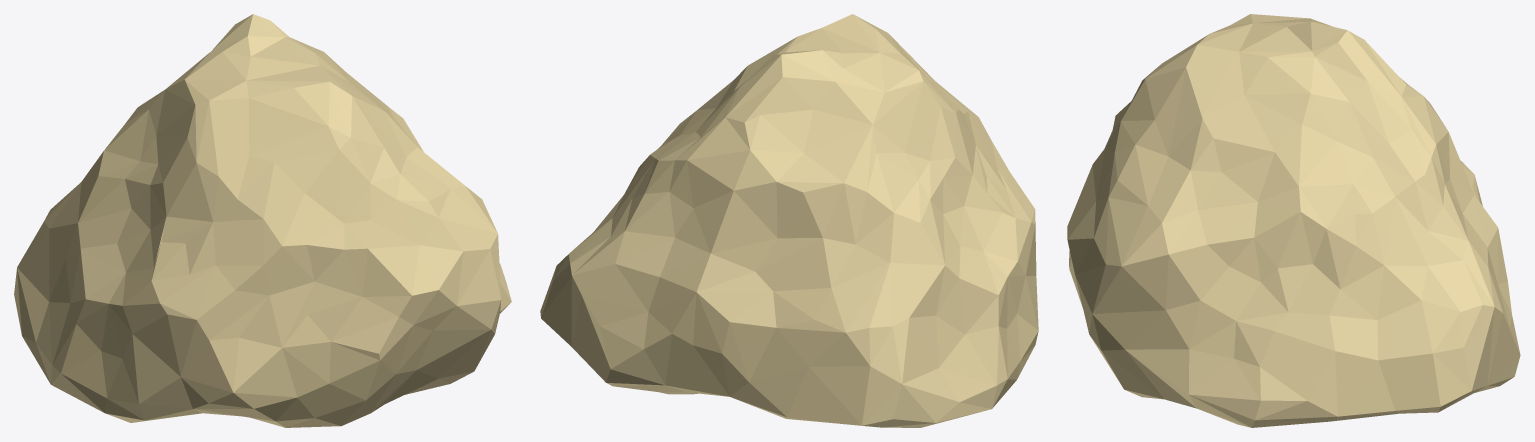
The model's file is Asteroid (12).fbx.
The picture shows the model from 3 angles, left to right: view 1: azimuth 30°, elevation 25°; view 2: azimuth 150°, elevation 25°; view 3: azimuth 270°, elevation 25°; orthographic projection. The views are drawn at different scales.
Visible parts, largest first — view 1: Asteroid218; view 2: Asteroid218; view 3: Asteroid218.
Part boxes in pixels (box(x1,y1,x2,y2)): Asteroid218: box(14, 14, 511, 427); Asteroid218: box(540, 14, 1038, 427); Asteroid218: box(1067, 14, 1520, 427).
Bounding box in the file's own units: 304 × 234 × 283.
